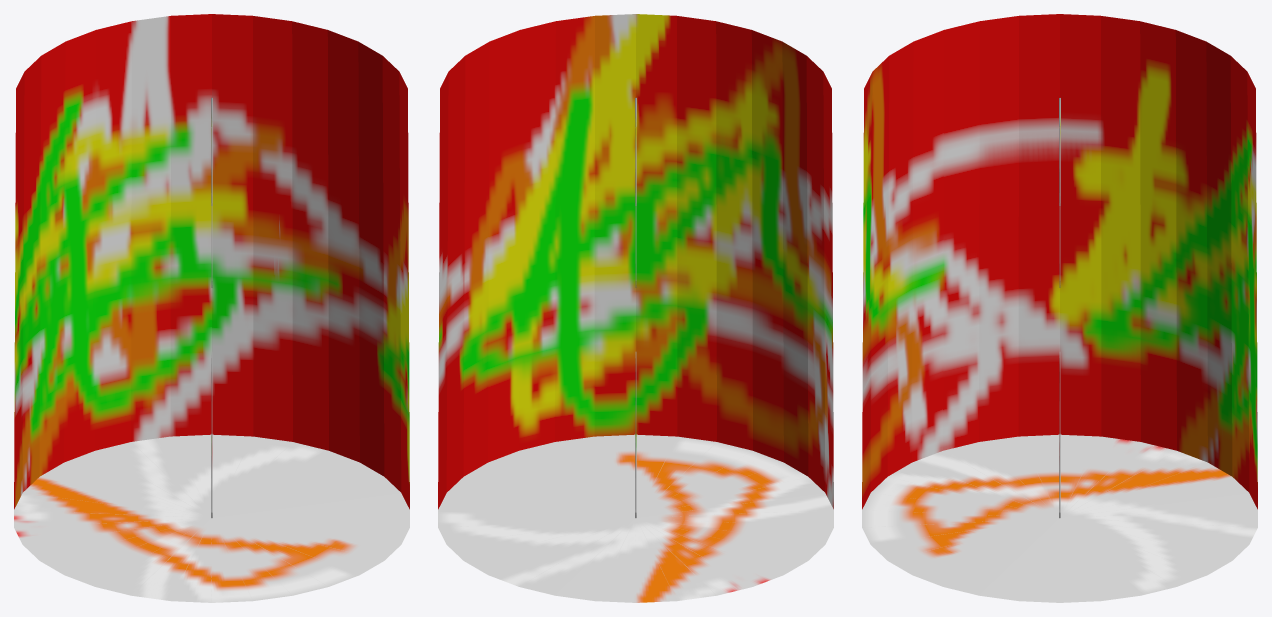
3 renders of one model, left to right at view 1: azimuth 30°, elevation 25°; view 2: azimuth 150°, elevation 25°; view 3: azimuth 270°, elevation 25°, orthographic.
Parts seen in each view (by area): view 1: algeomath (1); view 2: algeomath (1); view 3: algeomath (1).
Boxes of the visible parts, box(x1,y1,x2,y2) form: algeomath (1): box(14, 14, 409, 602); algeomath (1): box(438, 14, 833, 602); algeomath (1): box(862, 14, 1257, 602).
Size of the model in its own units: 0.2567 by 0.3 by 0.2553.
1 material, 1 textured.
